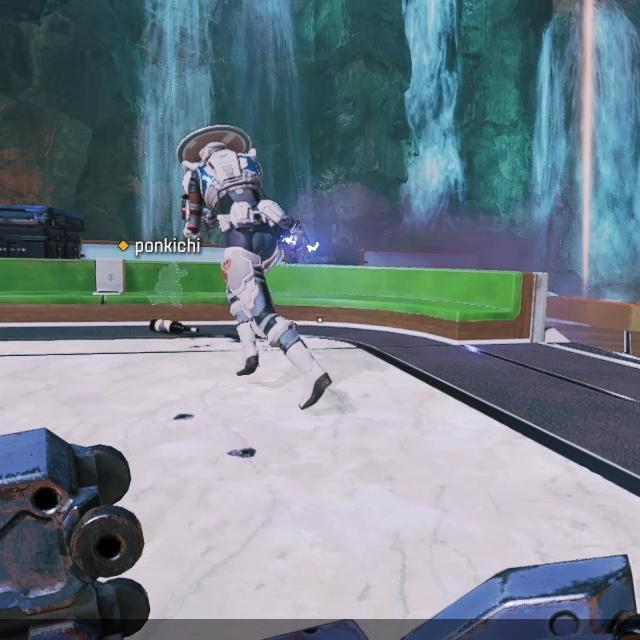avatar: (175, 123, 284, 380)
